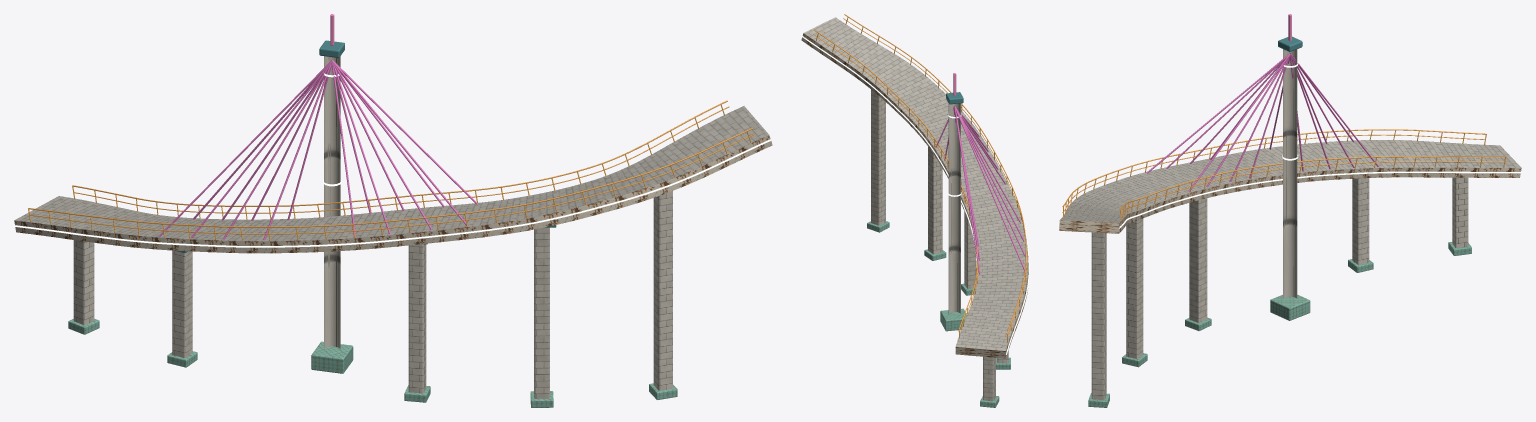
Rendered from Mock_A_to_D.glb.
3 views of the same model, side by side, from view 1: azimuth 30°, elevation 25°; view 2: azimuth 150°, elevation 25°; view 3: azimuth 270°, elevation 25° (orthographic). The views are drawn at different scales.
Visible parts, largest first — view 1: Mock_A_to_D_Deck, Mock_A_to_D_T0_Foot, Mock_A_to_D_Neon-1; view 2: Mock_A_to_D_Deck, Mock_A_to_D_T0_Foot, Mock_A_to_D_Neon-1; view 3: Mock_A_to_D_Deck, Mock_A_to_D_T0_Foot, Mock_A_to_D_Neon-1.
Boxes of the visible parts, x1,y1,x2,y2 form: Mock_A_to_D_Deck: (14, 40, 772, 398); Mock_A_to_D_T0_Foot: (68, 318, 677, 407); Mock_A_to_D_Neon-1: (14, 73, 771, 247); Mock_A_to_D_Deck: (801, 14, 1028, 401); Mock_A_to_D_T0_Foot: (867, 221, 1010, 407); Mock_A_to_D_Neon-1: (802, 36, 1029, 354); Mock_A_to_D_Deck: (1059, 36, 1521, 399); Mock_A_to_D_T0_Foot: (1088, 242, 1471, 407); Mock_A_to_D_Neon-1: (1058, 61, 1521, 228).
Bounding box in the file's own units: 41.55 × 27.33 × 38.47.
Materials: 6 (3 with a texture image).
